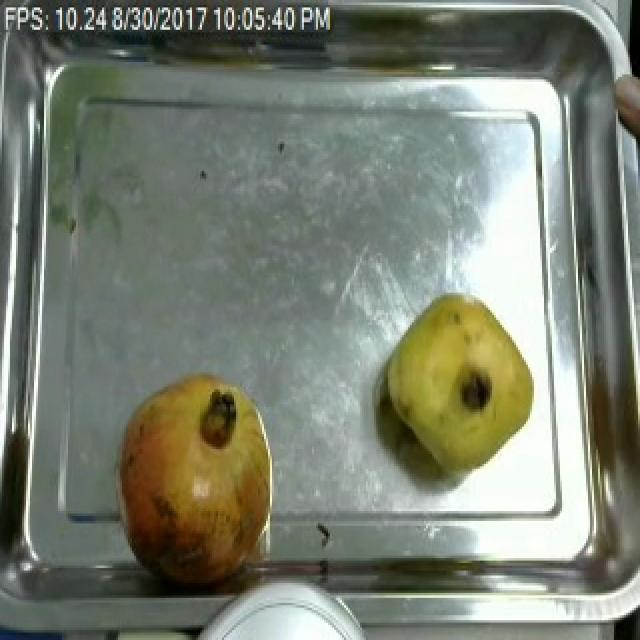fruit: (102, 360, 286, 598), (380, 280, 540, 487), (610, 62, 640, 159)
